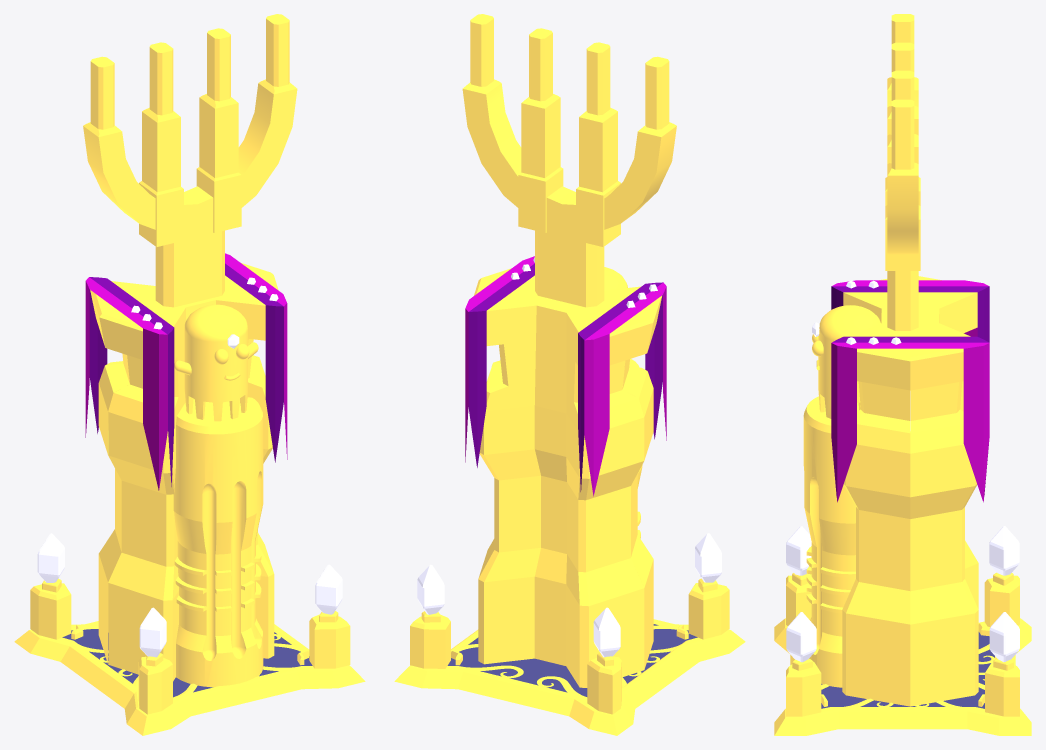
File: Aavegotchi_Golden_Altar.fbx
3 renders of one model, left to right at view 1: azimuth 30°, elevation 25°; view 2: azimuth 150°, elevation 25°; view 3: azimuth 270°, elevation 25°, orthographic.
Visible parts, largest first — view 1: tower3, base2, pPipe28, pPipe29, frame_base, gotchi3D_2, parament4, base12, parament1, parament3.001, frame_inner, pCylinder99 (+6 smaller); view 2: base12, pPipe28, pPipe29, frame_base, parament3.001, base2, parament3, foundation_9, parament4, frame_inner, pCylinder100, pCylinder96 (+4 smaller); view 3: base12, base2, tower3, pPipe28, frame_base, parament3, parament1, pPipe29, gotchi3D_2, pCylinder101, pCylinder96, foundation_9 (+9 smaller).
Part boxes in pixels (x1=…): tower3: x1=173, y1=397, x2=263, y2=687; base2: x1=99, y1=272, x2=278, y2=681; pPipe28: x1=83, y1=14, x2=297, y2=307; pPipe29: x1=139, y1=28, x2=241, y2=246; frame_base: x1=14, y1=630, x2=365, y2=735; gotchi3D_2: x1=184, y1=304, x2=247, y2=421; parament4: x1=117, y1=303, x2=174, y2=490; base12: x1=90, y1=263, x2=270, y2=663; parament1: x1=232, y1=274, x2=287, y2=462; parament3.001: x1=85, y1=277, x2=140, y2=437; frame_inner: x1=29, y1=621, x2=350, y2=716; pCylinder99: x1=30, y1=583, x2=71, y2=639; base12: x1=474, y1=278, x2=652, y2=687; pPipe28: x1=462, y1=14, x2=676, y2=307; pPipe29: x1=518, y1=28, x2=620, y2=246; frame_base: x1=394, y1=630, x2=745, y2=735; parament3.001: x1=578, y1=308, x2=635, y2=496; base2: x1=482, y1=268, x2=662, y2=669; parament3: x1=465, y1=280, x2=519, y2=467; foundation_9: x1=447, y1=624, x2=697, y2=696; parament4: x1=612, y1=282, x2=666, y2=440; frame_inner: x1=409, y1=619, x2=730, y2=716; pCylinder100: x1=688, y1=583, x2=729, y2=639; pCylinder96: x1=410, y1=614, x2=450, y2=668; base12: x1=910, y1=276, x2=978, y2=706; base2: x1=842, y1=279, x2=910, y2=706; tower3: x1=803, y1=396, x2=858, y2=687; pPipe28: x1=887, y1=14, x2=918, y2=330; frame_base: x1=774, y1=619, x2=1031, y2=735; parament3: x1=910, y1=336, x2=989, y2=502; parament1: x1=831, y1=336, x2=911, y2=502; pPipe29: x1=885, y1=42, x2=920, y2=270; gotchi3D_2: x1=818, y1=305, x2=880, y2=418; pCylinder101: x1=786, y1=661, x2=821, y2=716; pCylinder96: x1=985, y1=661, x2=1019, y2=716; foundation_9: x1=821, y1=632, x2=994, y2=708.
Bounding box in the file's own units: 899 × 2407 × 899.
